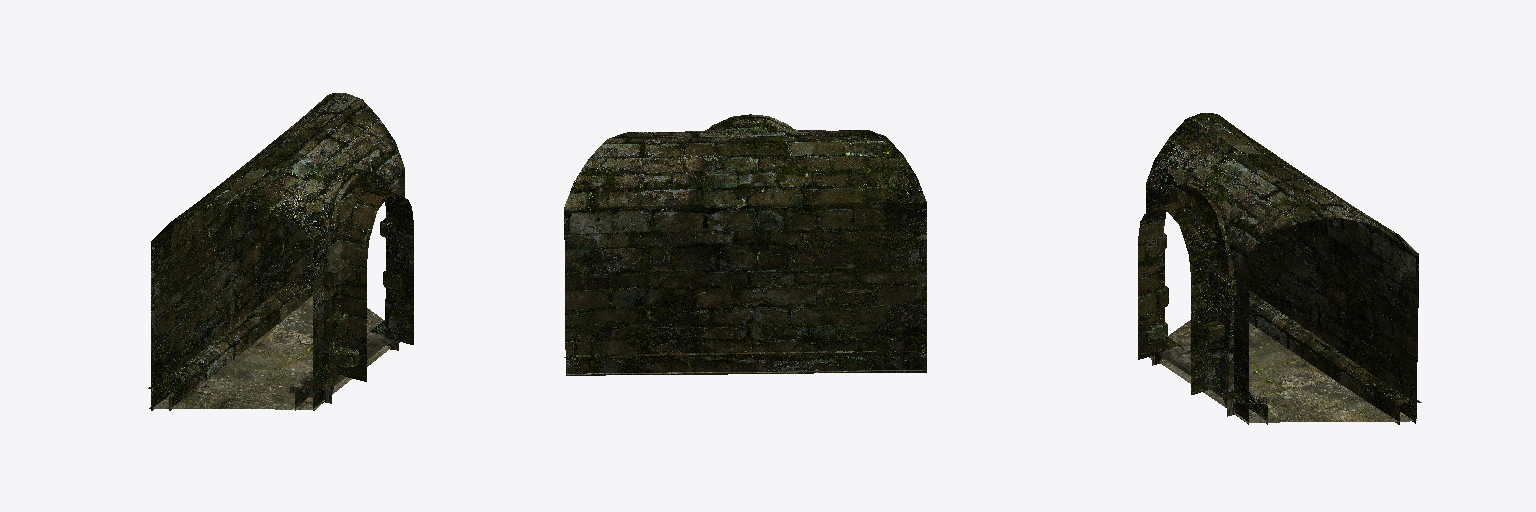
The picture shows the model from 3 angles: view 1: azimuth 30°, elevation 25°; view 2: azimuth 150°, elevation 25°; view 3: azimuth 270°, elevation 25°; orthographic projection.
Parts seen in each view (by area): view 1: mesh0, mesh1, mesh3; view 2: mesh0; view 3: mesh0, mesh1, mesh3.
Part boxes in pixels (x1,y1,x2,y2): mesh0: (148,93,413,410); mesh1: (149,295,390,409); mesh3: (293,332,391,387); mesh0: (564,114,926,375); mesh0: (1138,113,1421,424); mesh1: (1150,320,1416,422); mesh3: (1159,346,1263,398).
Bounding box in the file's own units: 3.57 × 2.64 × 3.27.
Materials: 4 (4 with a texture image).